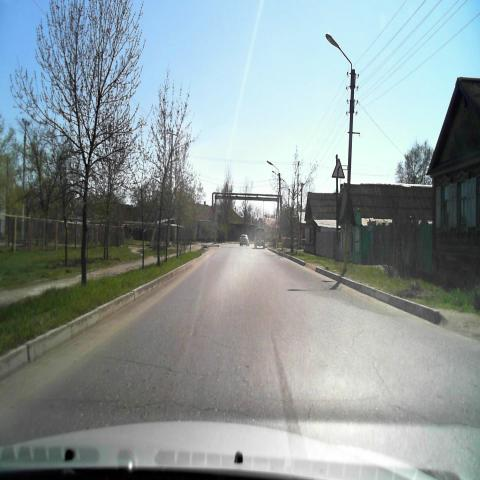1_11: (332, 158, 346, 180)
